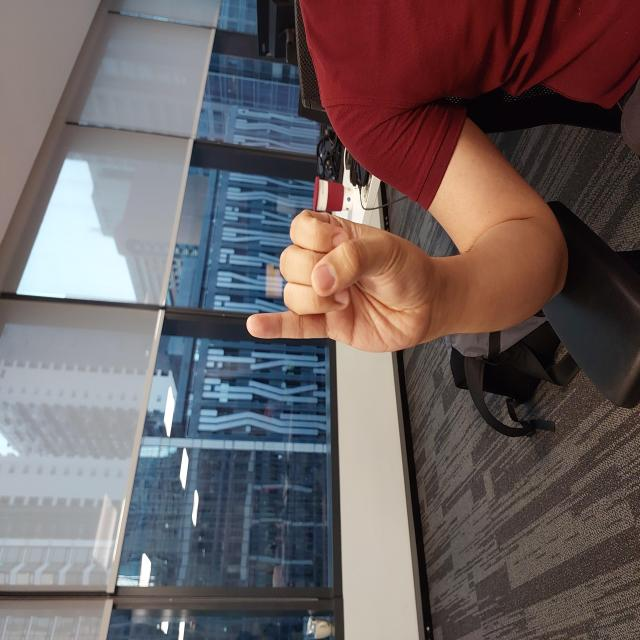I: (285, 244, 433, 438)
